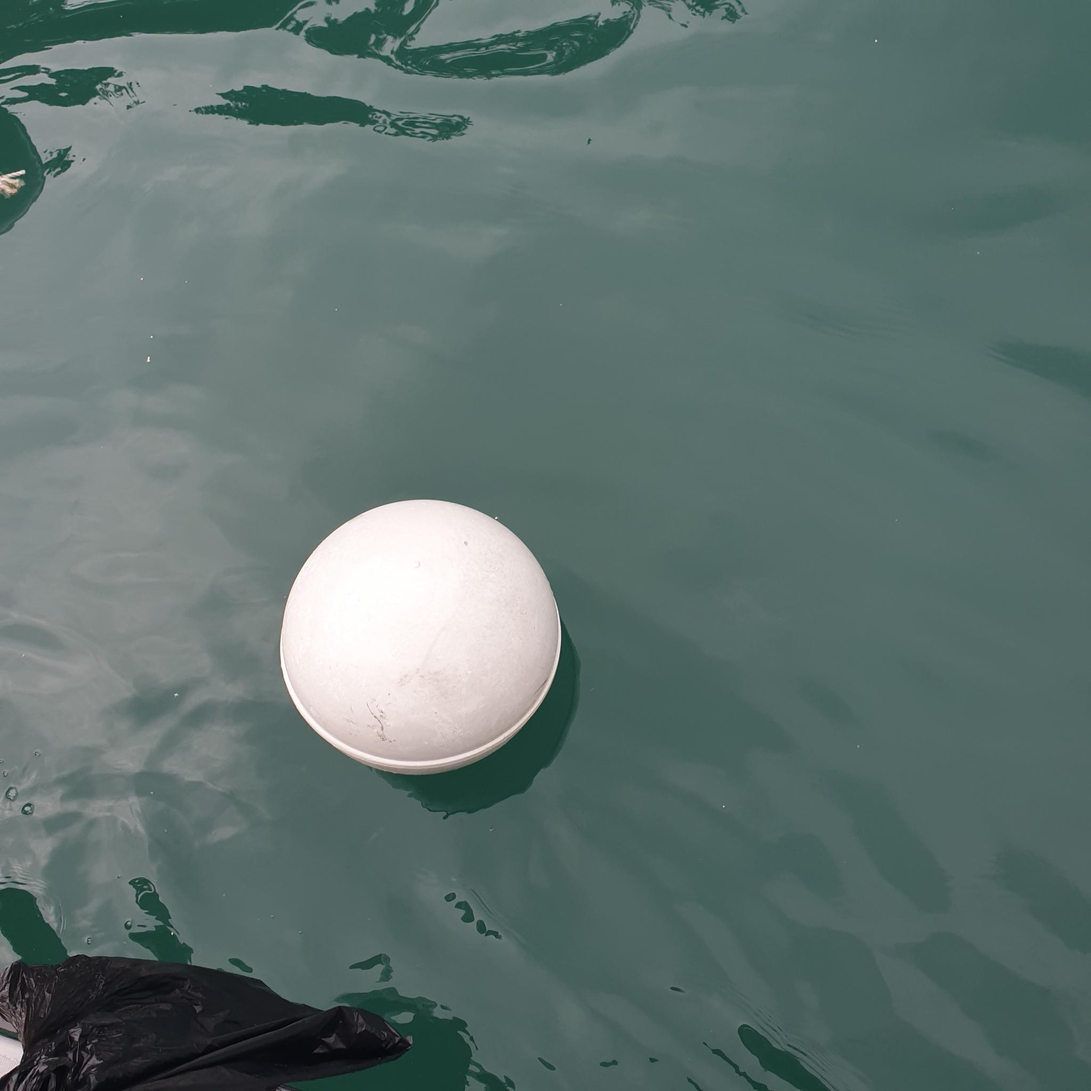sampah_terapung: (280, 500, 561, 777), (1, 170, 26, 200)
